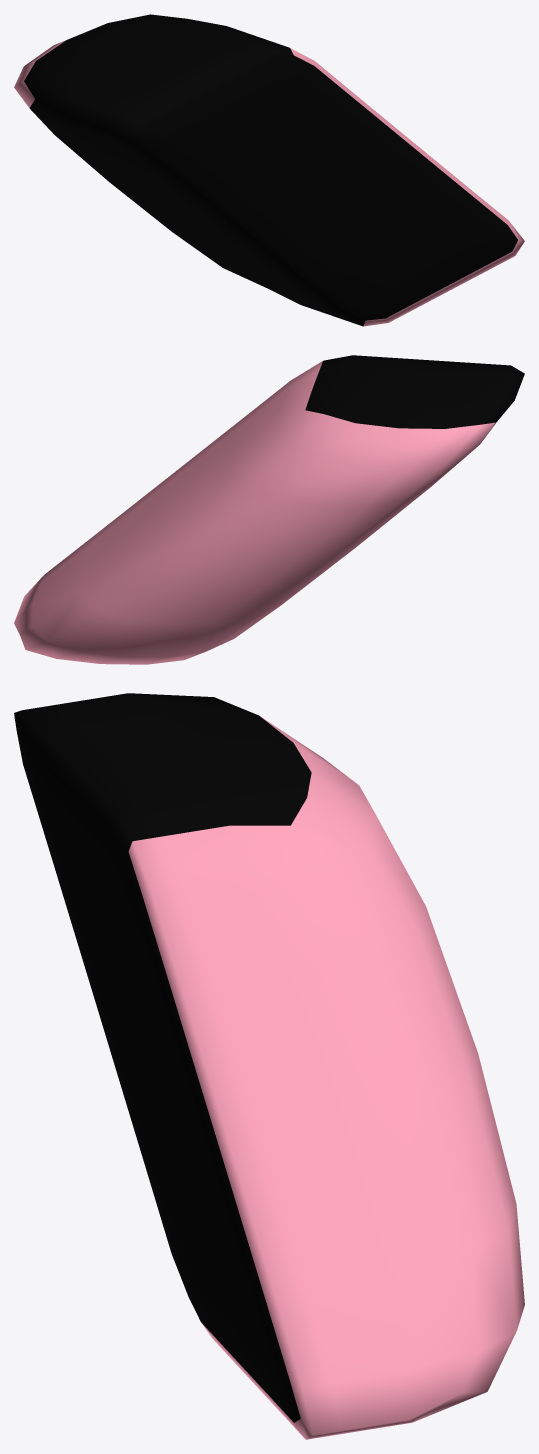
The picture shows the model from 3 angles, top to bottom: view 1: azimuth 30°, elevation 25°; view 2: azimuth 150°, elevation 25°; view 3: azimuth 270°, elevation 25°; orthographic projection. The views are drawn at different scales.
Visible parts, largest first — view 1: Box1229; view 2: Box1229; view 3: Box1229.
Part boxes in pixels (x1,y1,x2,y2): Box1229: (14, 14, 524, 326); Box1229: (14, 355, 524, 664); Box1229: (14, 693, 524, 1439).
Bounding box in the file's own units: 0.0598 × 0.0357 × 0.0386.
